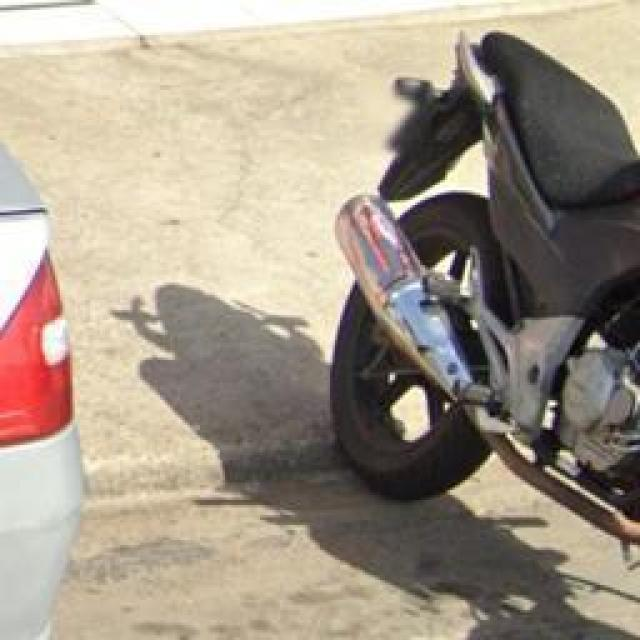motorbike: (320, 24, 640, 578)
